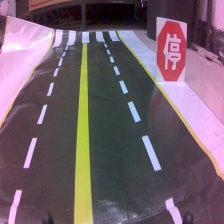stop: (154, 15, 189, 85)
